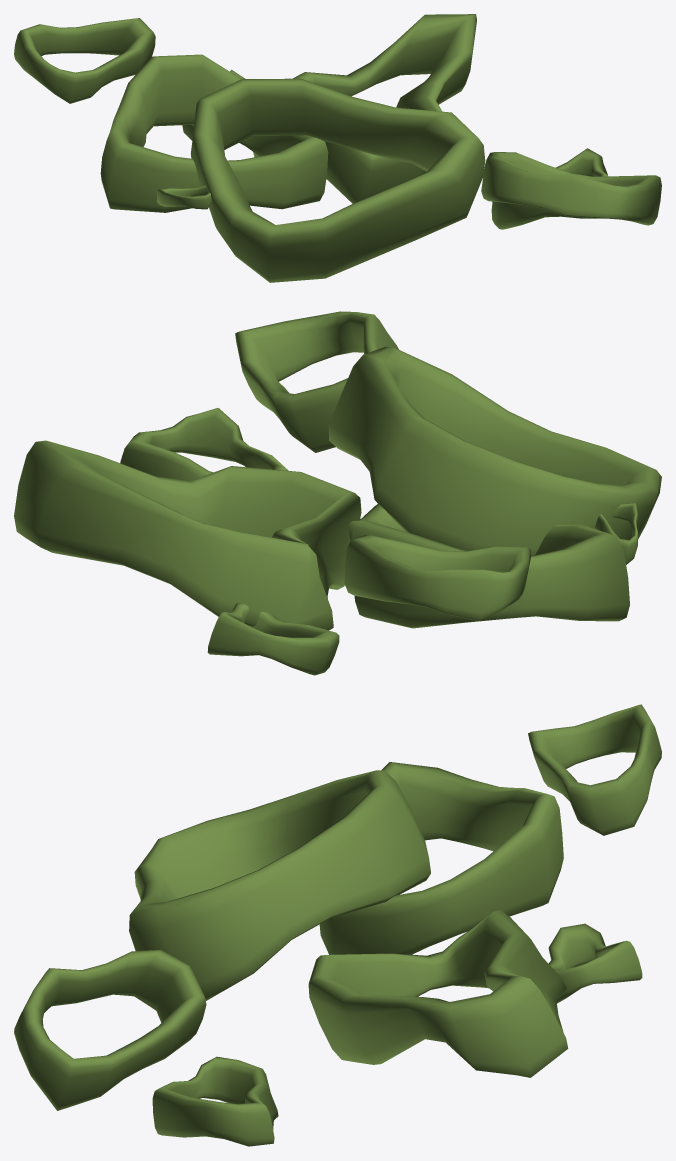
The model's file is pilePeppers.glb.
3 renders of one model, top to bottom at view 1: azimuth 30°, elevation 25°; view 2: azimuth 150°, elevation 25°; view 3: azimuth 270°, elevation 25°, orthographic. The views are drawn at different scales.
Visible parts, largest first — view 1: polySurface174, polySurface180, polySurface182, polySurface178, polySurface176, polySurface175, polySurface183; view 2: polySurface182, polySurface174, polySurface180, polySurface176, polySurface178, polySurface175, polySurface179, polySurface183; view 3: polySurface174, polySurface182, polySurface180, polySurface178, polySurface176, polySurface175, polySurface179.
Part boxes in pixels (x1,y1,x2,y2): polySurface174: (190,78,485,282); polySurface180: (100,54,328,212); polySurface182: (253,14,476,203); polySurface178: (481,152,661,225); polySurface176: (14,18,155,103); polySurface175: (491,148,607,229); polySurface183: (156,185,211,209); polySurface182: (14,440,361,630); polySurface174: (328,346,661,556); polySurface180: (348,504,629,628); polySurface176: (344,535,530,621); polySurface178: (235,311,398,452); polySurface175: (120,408,288,481); polySurface179: (207,603,339,675); polySurface183: (594,503,638,564); polySurface174: (129,770,430,1000); polySurface182: (308,910,568,1077); polySurface180: (319,762,563,954); polySurface178: (14,950,206,1110); polySurface176: (528,704,661,835); polySurface175: (152,1056,278,1146); polySurface179: (548,923,642,1003).
Size of the model in its own units: 0.0146 by 0.00503 by 0.0146.
